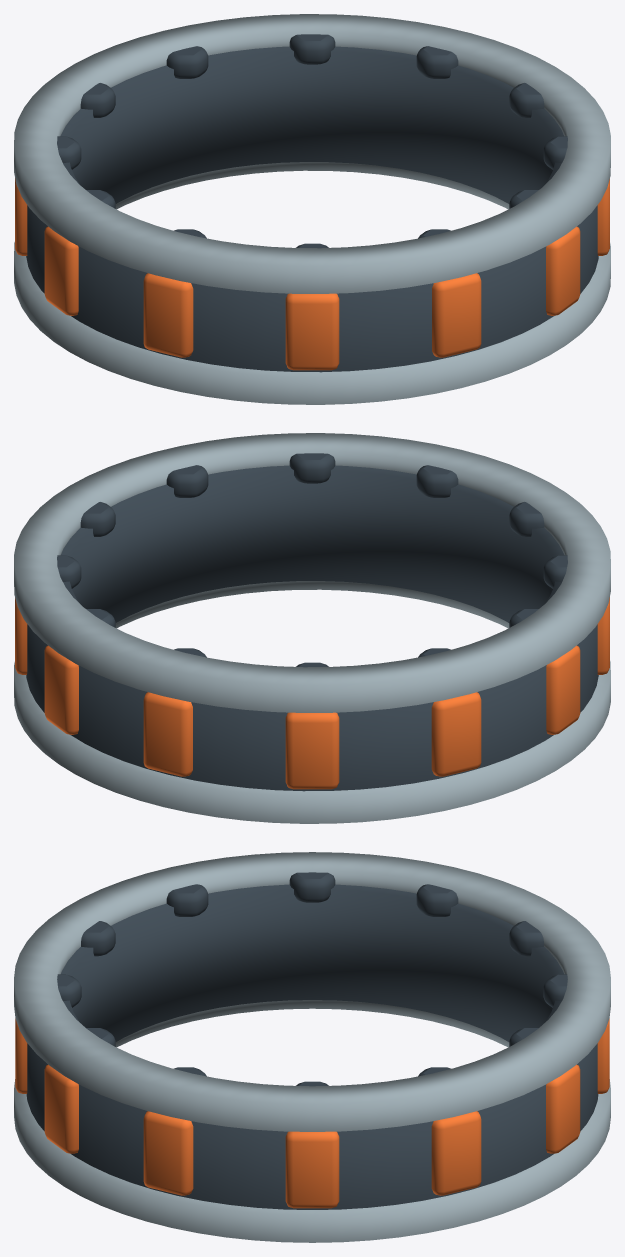
File: decouplerSmall.glb
3 renders of one model, top to bottom at view 1: azimuth 30°, elevation 25°; view 2: azimuth 150°, elevation 25°; view 3: azimuth 270°, elevation 25°, orthographic.
Parts seen in each view (by area): view 1: Hollow separation collar; view 2: Hollow separation collar; view 3: Hollow separation collar.
Part boxes in pixels (left/top/right/bottom): Hollow separation collar: left=14, top=14, right=610, bottom=404; Hollow separation collar: left=14, top=433, right=610, bottom=823; Hollow separation collar: left=14, top=852, right=610, bottom=1242.
Bounding box in the file's own units: 0.625 × 0.16 × 0.625.
